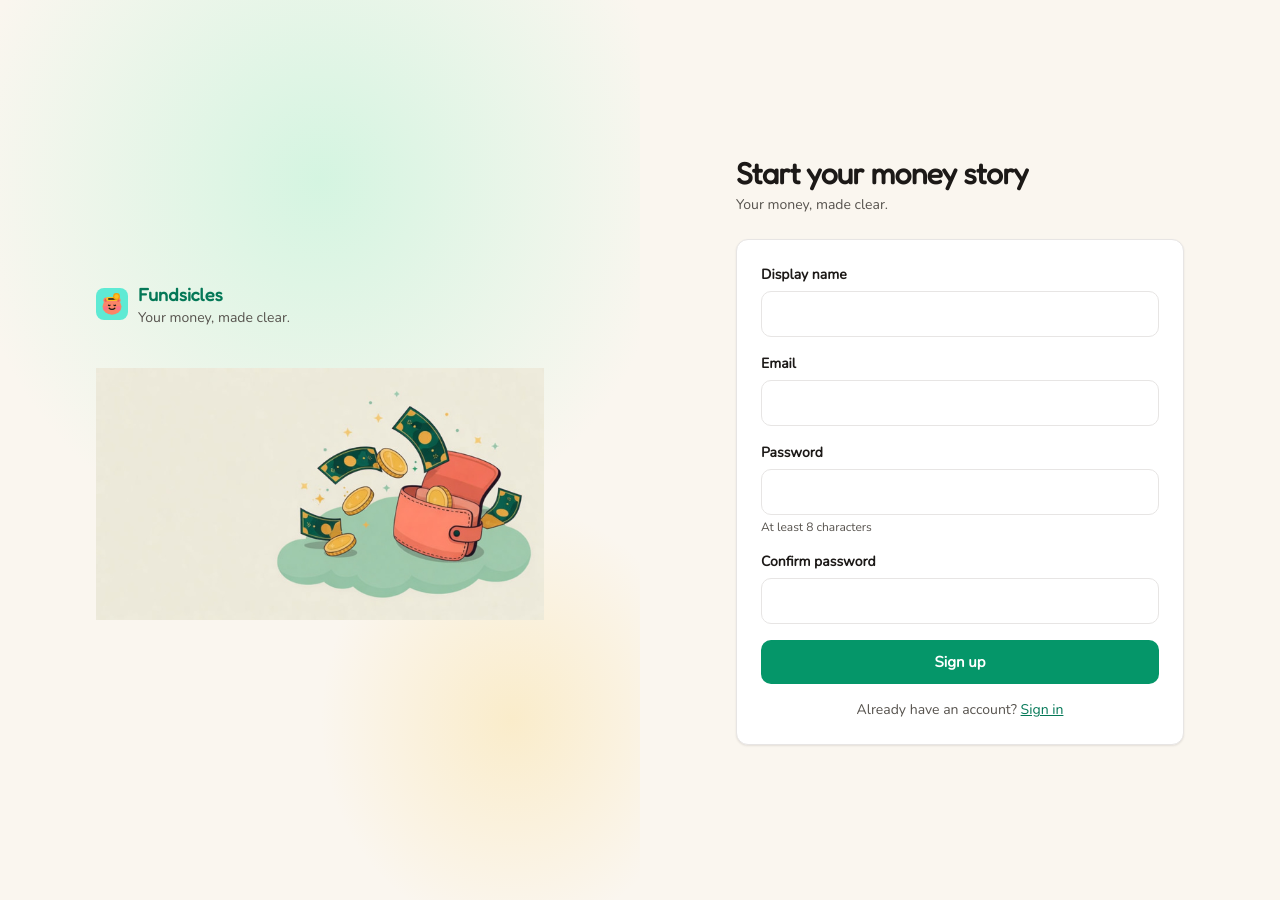
Test: signup confirmation modal › Go to sign in navigates to /login
The width and height of the screenshot is (1280, 900).
In the field labelled "Display name": (960, 314) [761,291,1159,337], type "Alex"
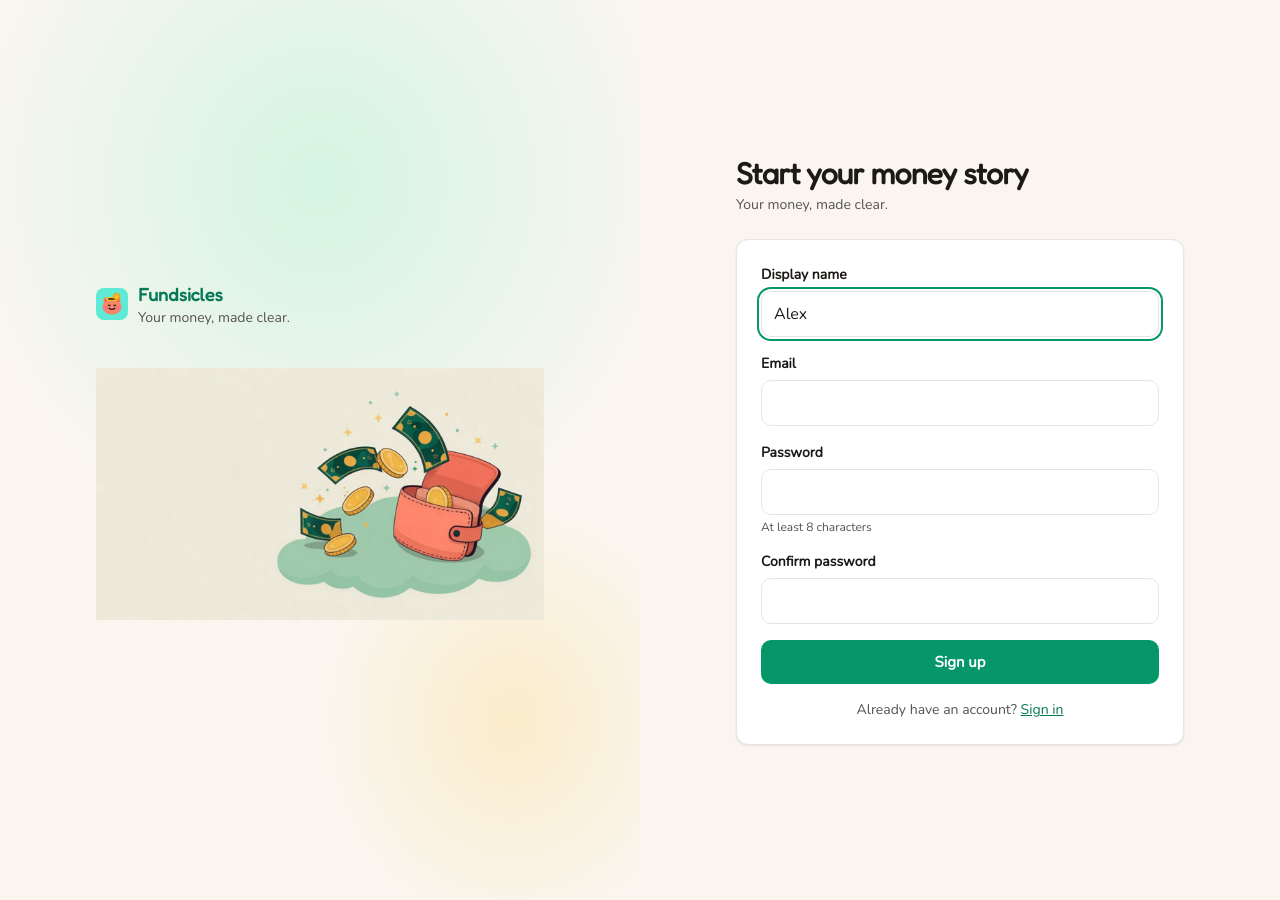
In the field labelled "Email": (960, 403) [761,380,1159,426], type "you@example.com"
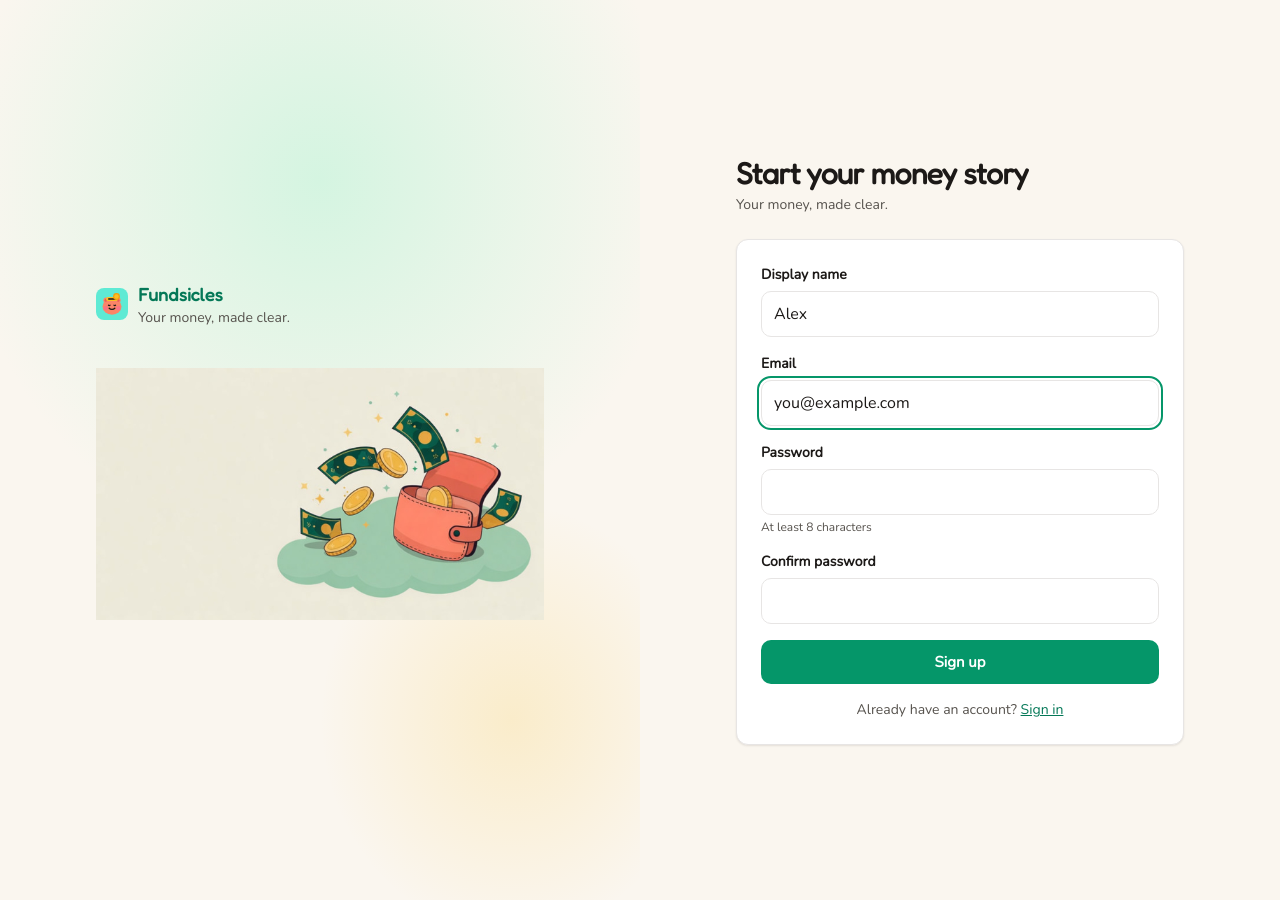
In the password field labelled "Password": (960, 492) [761,469,1159,515], type "password1"
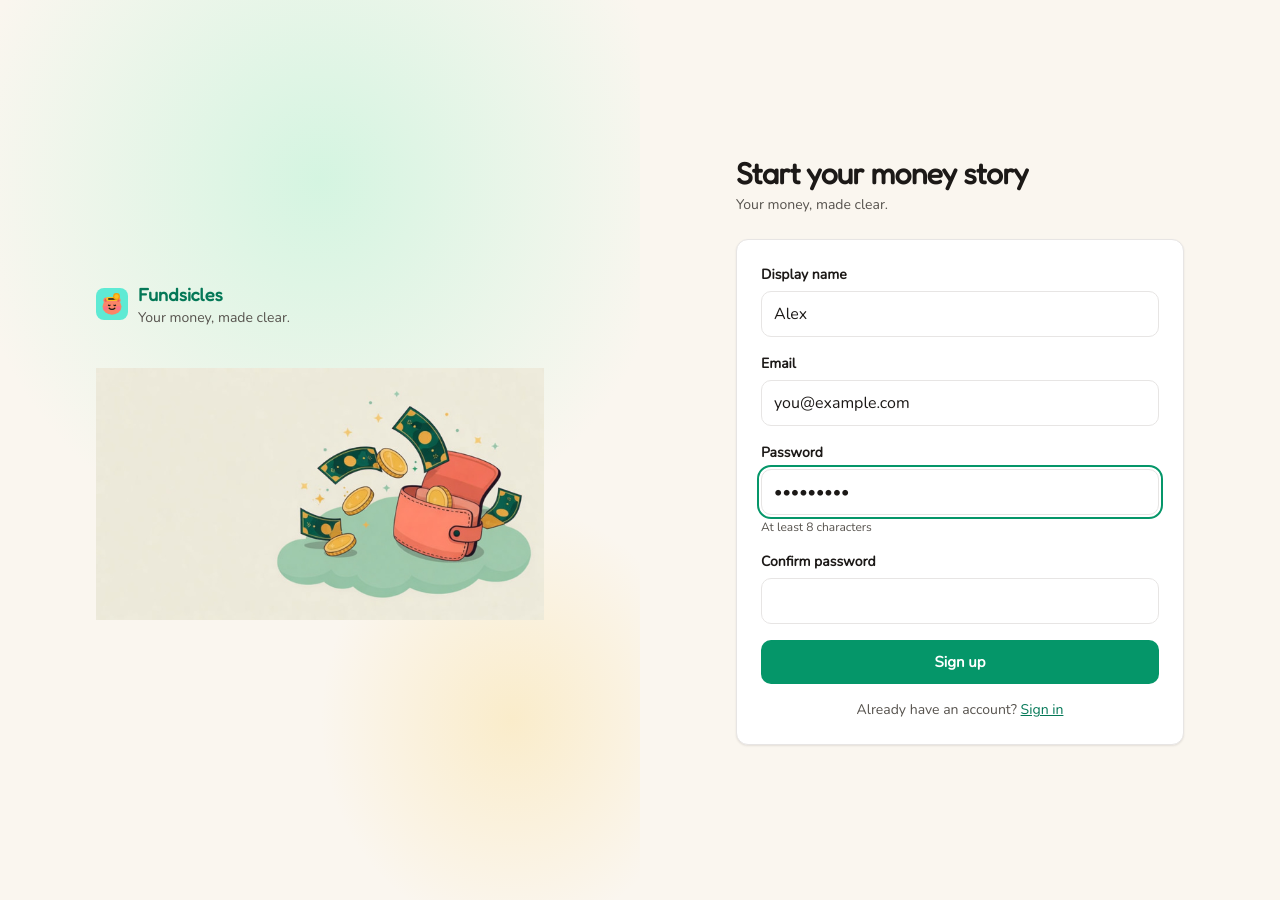
In the password field labelled "Confirm password": (960, 601) [761,578,1159,624], type "password1"
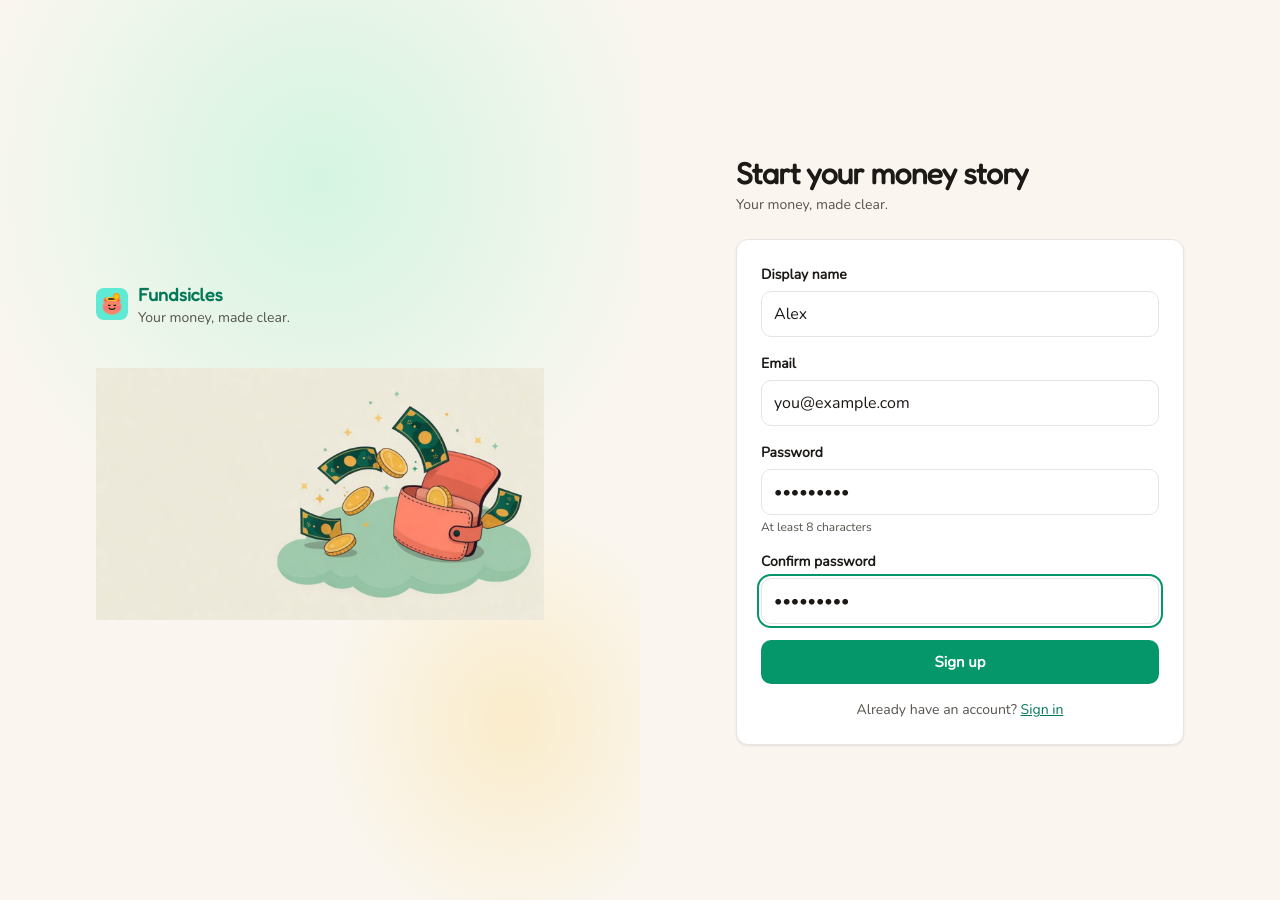
Click the button "Sign up": (960, 662) [761,640,1159,684]
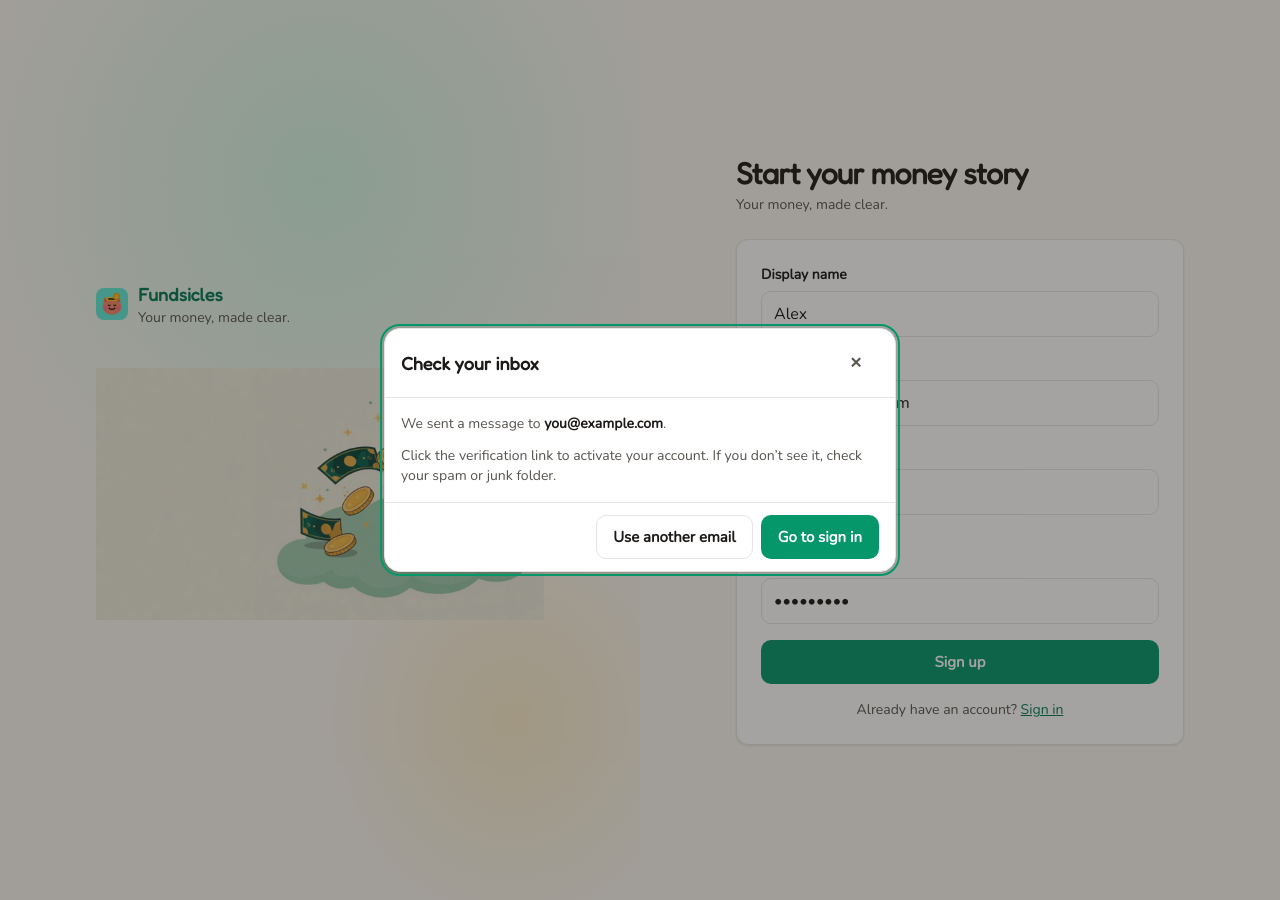
Expected: the dialog is shown, [384,328,896,572]
Click the button "Go to sign in": (820, 537) [761,515,879,559]
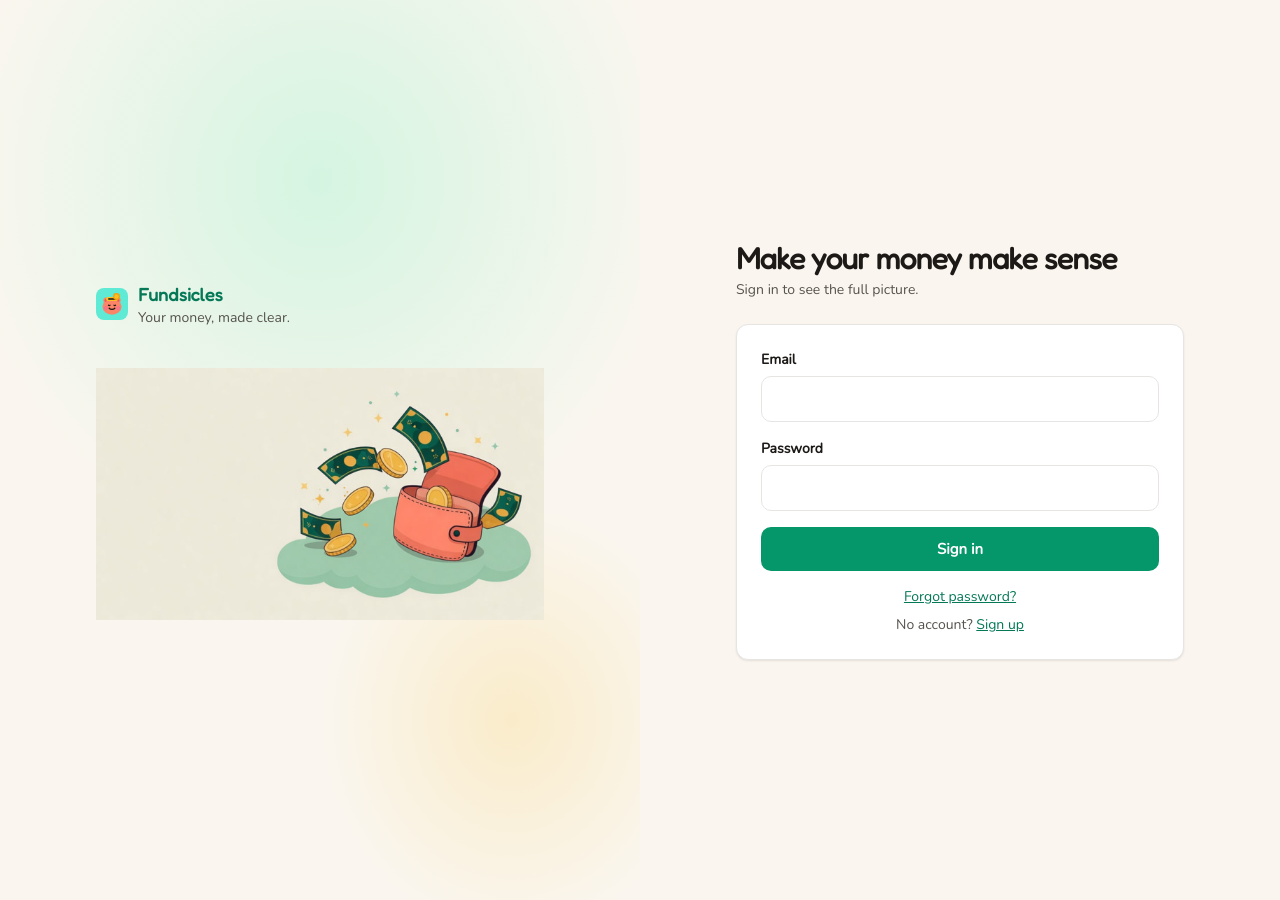
Expected: the heading "Make your money make sense" is shown, [736,240,1117,276]
